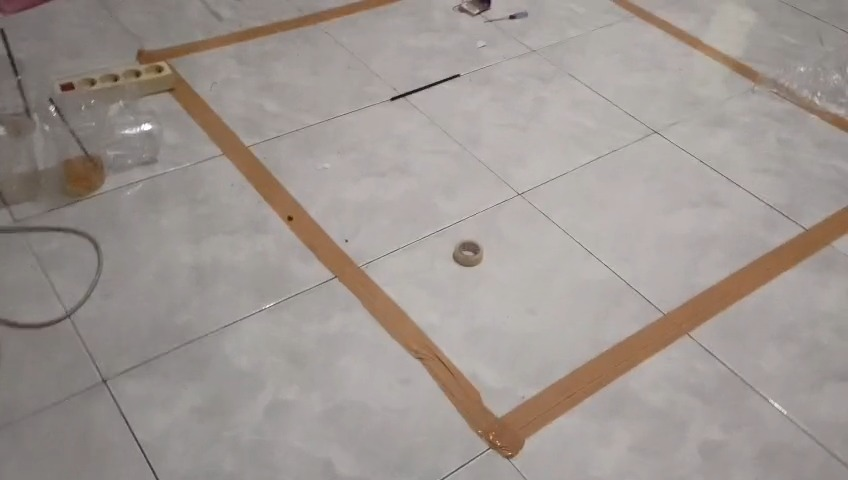floor marking: (171, 74, 847, 458), (614, 0, 847, 132), (137, 0, 398, 62)
